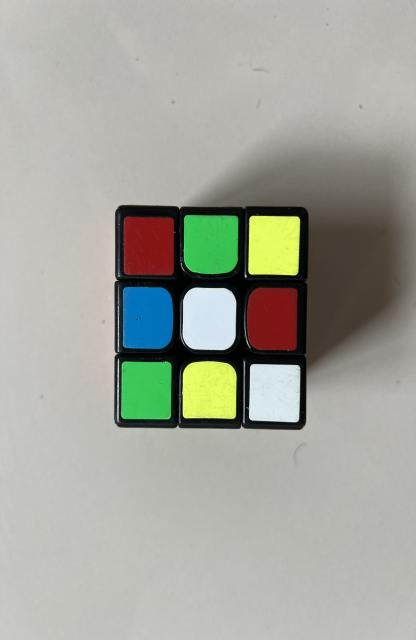Blue: (122, 286, 173, 349)
Green: (183, 215, 238, 274), (121, 361, 171, 420)
Red: (247, 288, 298, 350), (124, 216, 174, 275)
White: (182, 288, 236, 350), (249, 365, 300, 424)
Yellow: (182, 361, 237, 419), (248, 216, 300, 275)
